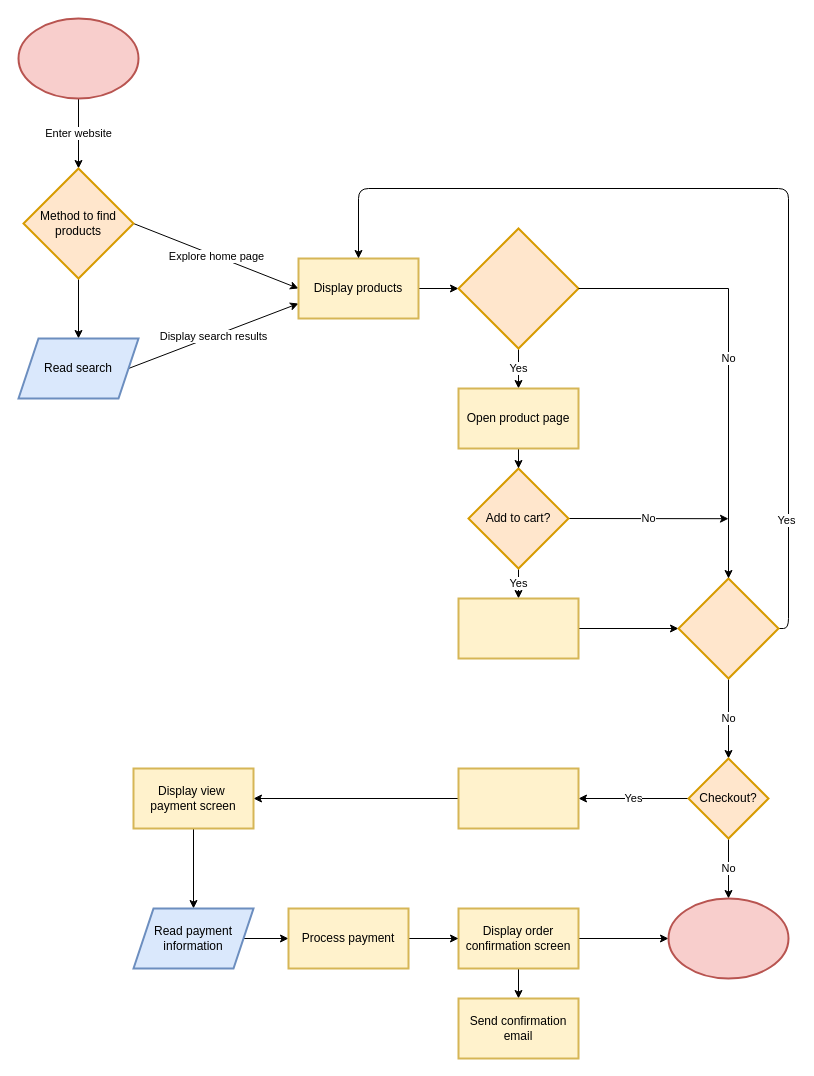
This 814x1076 diagram has some shape labels left out. Each missing label, with the centre of its shape:
"Continue shopping?" goes at pixel 728 628.
"Display view cart screen" goes at pixel 518 798.
"Exit" goes at pixel 728 938.
"Show added to cart confirmation" goes at pixel 518 628.
"Start" goes at pixel 78 58.
"View specific item?" goes at pixel 518 288.
